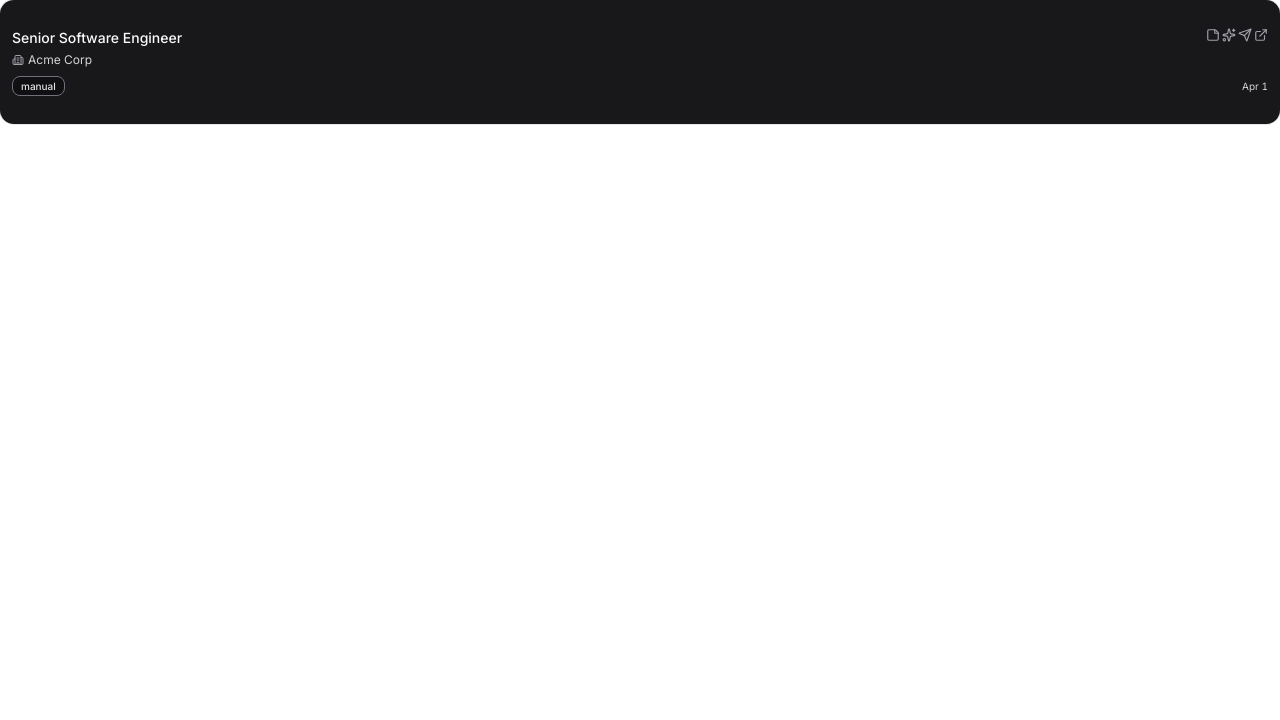
Test: JobCard › opens the notes dialog when the notes button is clicked
Click the button named "add notes".
click(1213, 35)  # box [1202,24,1224,46]
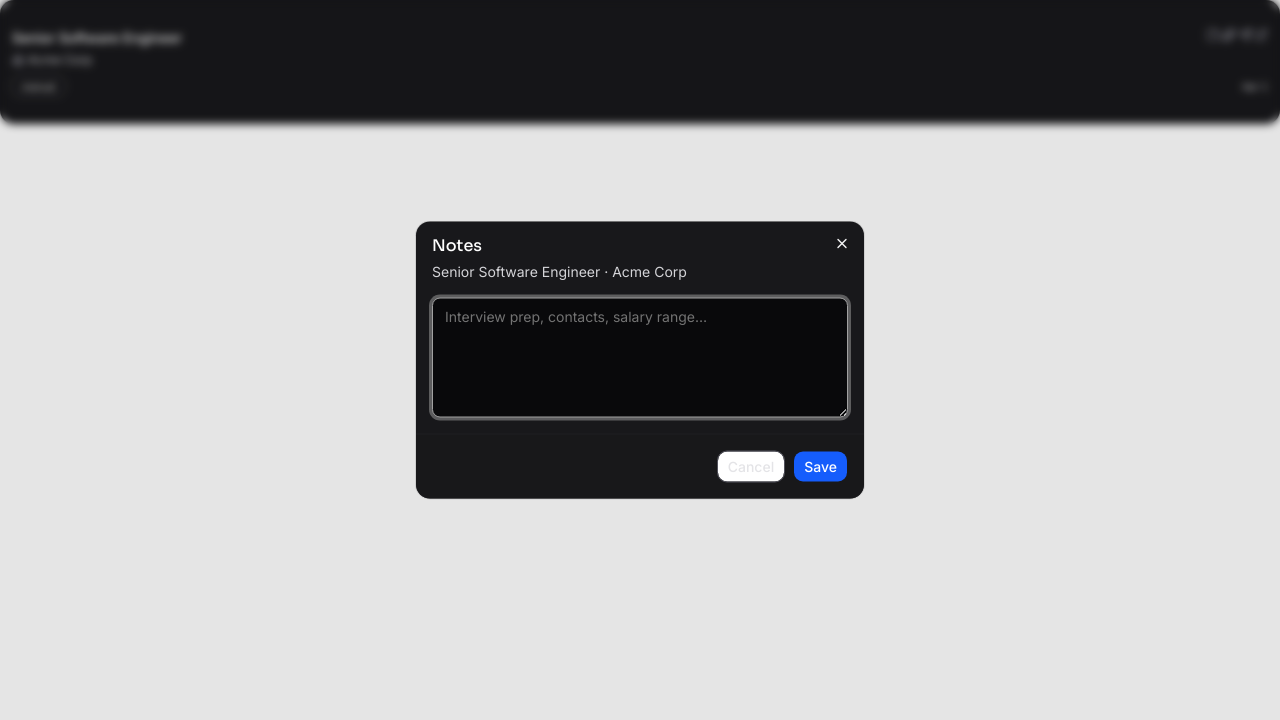
Expected: the dialog is shown, [416,222,864,498]
Expected: the text box named "notes for senior software engineer at acme corp" is shown, [432,298,848,418]
